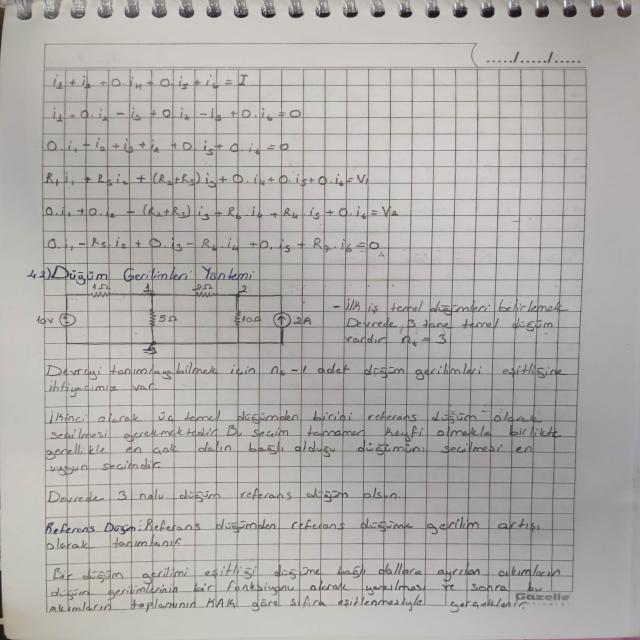image: (29, 282, 320, 356)
math: (42, 68, 408, 257)
text: (41, 406, 564, 478), (46, 560, 576, 614), (39, 359, 578, 396), (40, 516, 548, 552), (328, 291, 573, 349), (44, 483, 408, 506), (26, 262, 261, 282)
